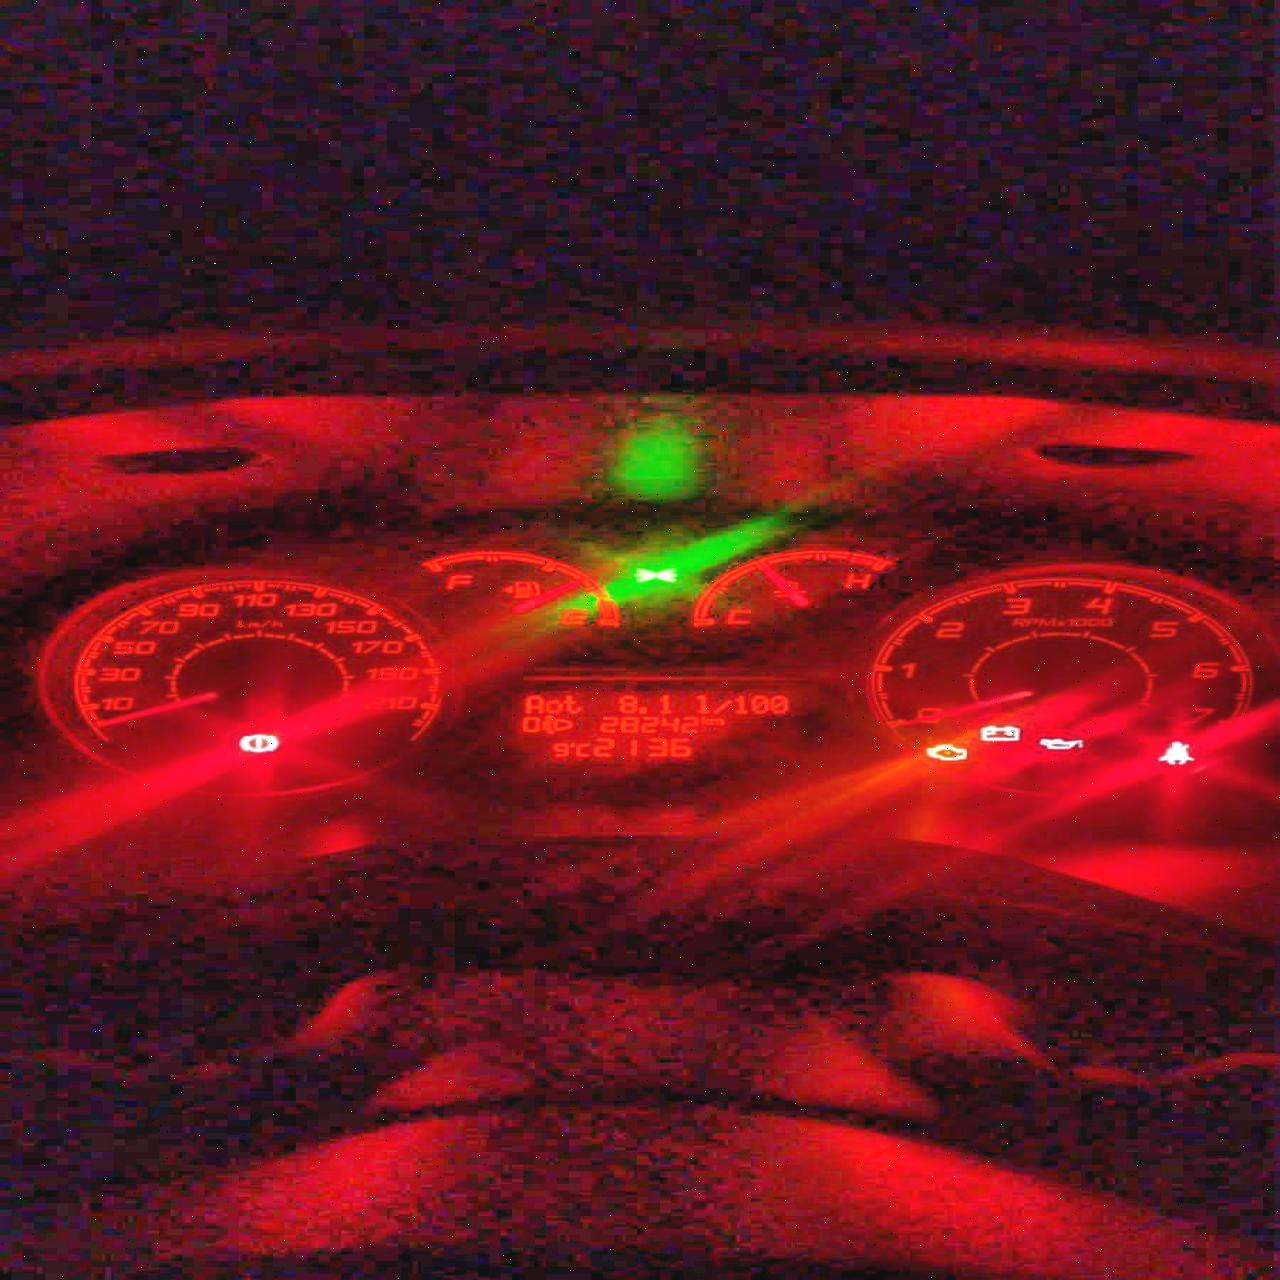-: (635, 706, 647, 714)
0: (749, 694, 769, 714), (769, 694, 788, 715), (519, 715, 539, 731)
1: (733, 694, 748, 714), (658, 694, 670, 714), (627, 737, 639, 755)
2: (591, 737, 614, 756), (680, 715, 700, 733), (598, 715, 618, 733), (640, 716, 659, 733)
3: (646, 737, 667, 757)
4: (660, 716, 680, 731)
6: (668, 737, 689, 756)
8: (617, 694, 636, 714), (620, 715, 639, 733)
9: (552, 742, 567, 757)
X: (560, 694, 580, 714), (524, 694, 544, 714), (694, 694, 712, 714), (712, 699, 731, 714), (543, 700, 563, 714), (573, 742, 592, 756), (708, 717, 723, 724), (700, 716, 709, 726)
odometer: (482, 680, 799, 764)
